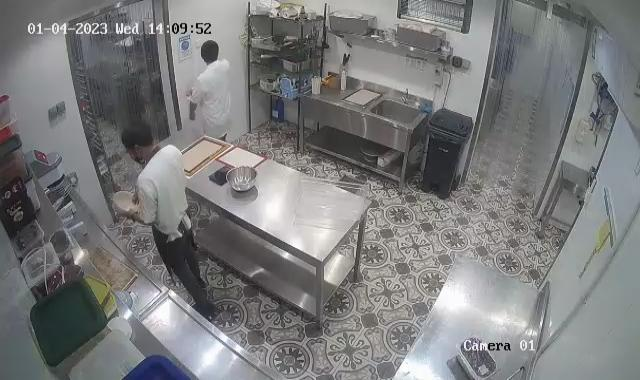no_hairnet: (119, 122, 157, 150), (199, 41, 220, 66)
